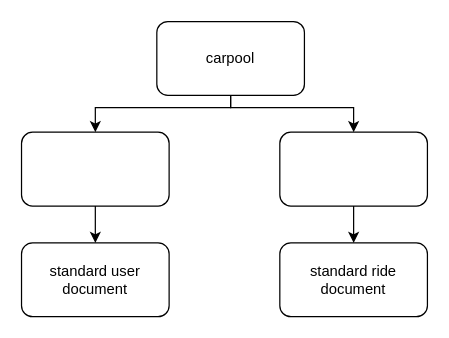
This 449x338 diagram has some shape labels left out. Here are the shapes that lost their labels. From the top down, the centre of each, then its label:
At pixel 94 168: "users collection".
At pixel 353 168: "rides collection".
